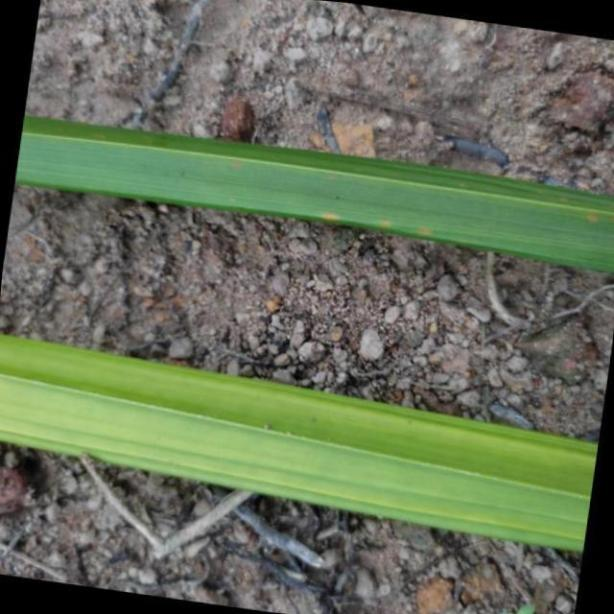nitrogen: (3, 336, 598, 550), (21, 120, 614, 270)
